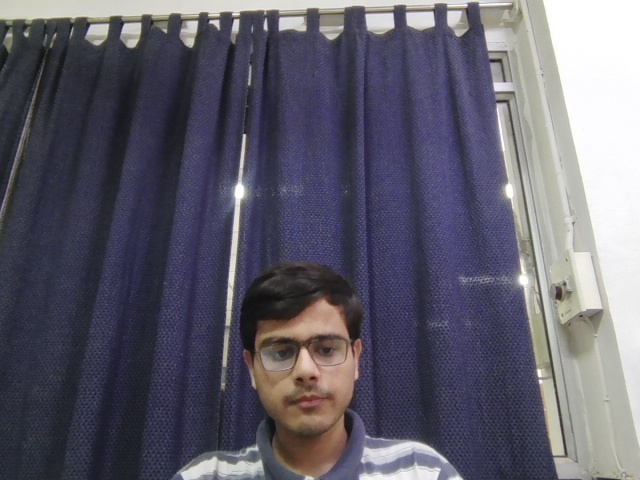face: (240, 264, 367, 436)
